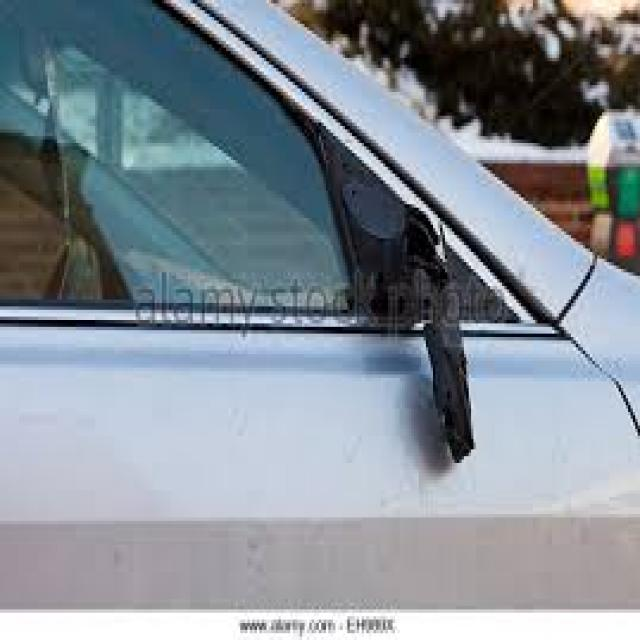minor: (346, 161, 534, 453)
